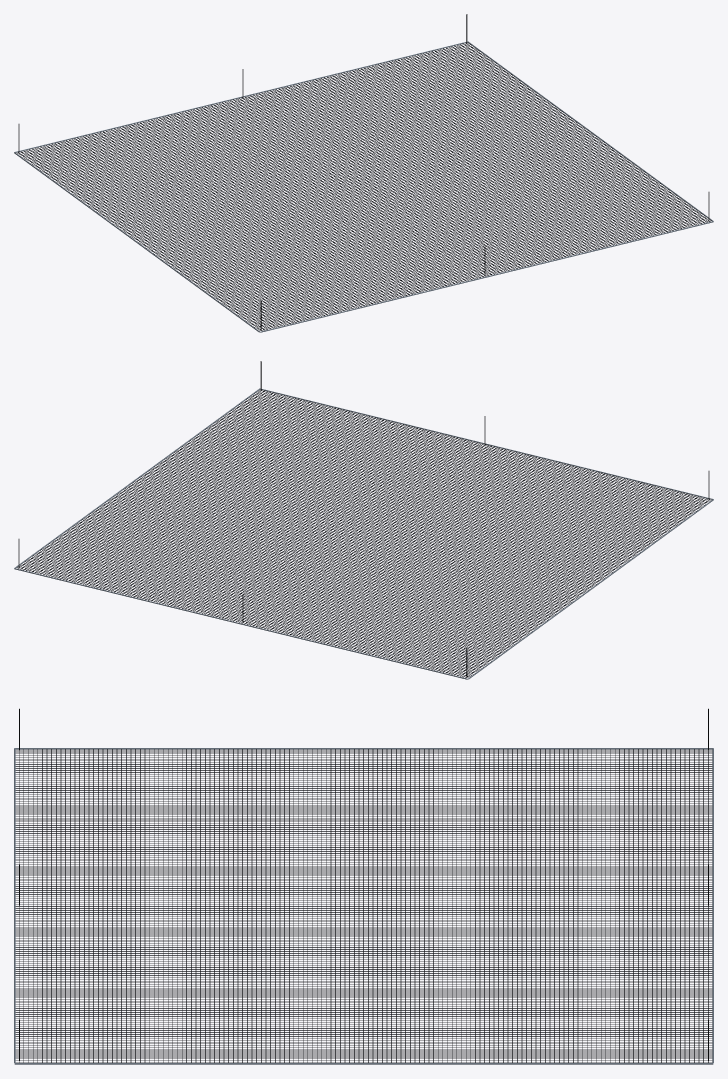
File: tt_struct_ball_net.glb
3 renders of one model, top to bottom at view 1: azimuth 30°, elevation 25°; view 2: azimuth 150°, elevation 25°; view 3: azimuth 270°, elevation 25°, orthographic. The views are drawn at different scales.
Visible parts, largest first — view 1: Net_Scissor, Net_Cables; view 2: Net_Scissor, Net_Cables; view 3: Net_Scissor, Net_Cables.
Part boxes in pixels (x1,y1,x2,y2): Net_Scissor: (17, 43, 710, 330); Net_Cables: (14, 41, 713, 332); Net_Scissor: (17, 390, 710, 677); Net_Cables: (14, 388, 713, 679); Net_Scissor: (15, 749, 712, 1062); Net_Cables: (14, 748, 713, 1064).
Size of the model in its own units: 16.03 by 1.02 by 15.03.
Materials: 3 (3 with a texture image).
